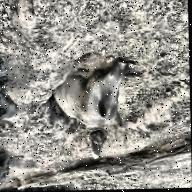boar: (48, 42, 144, 141)
